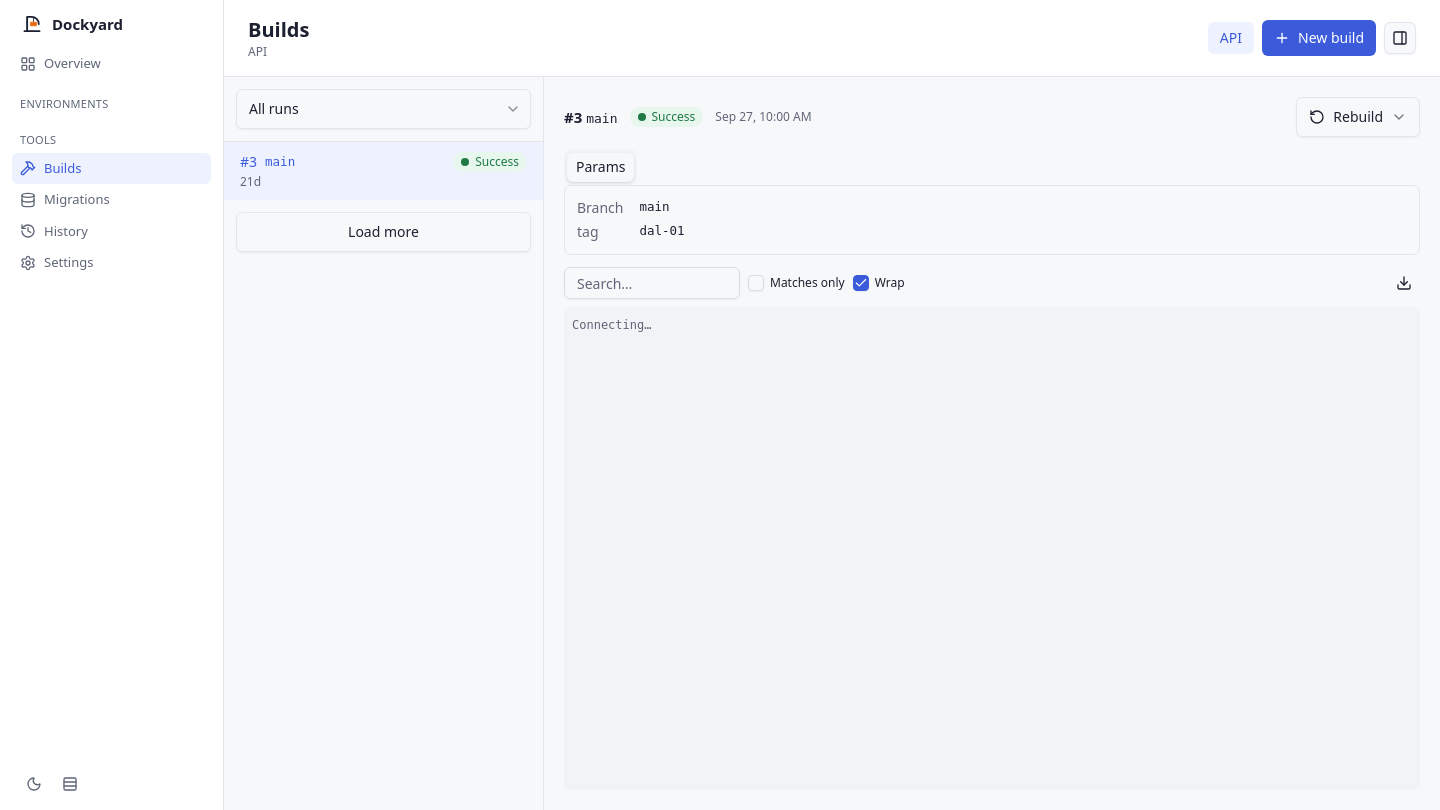
Scenario: BuildsPage › counts "Next tag" past tags from runs older than the loaded page (cubic #35)
Click the button "Rebuild" at [1358, 117], box [1296, 97, 1420, 137]
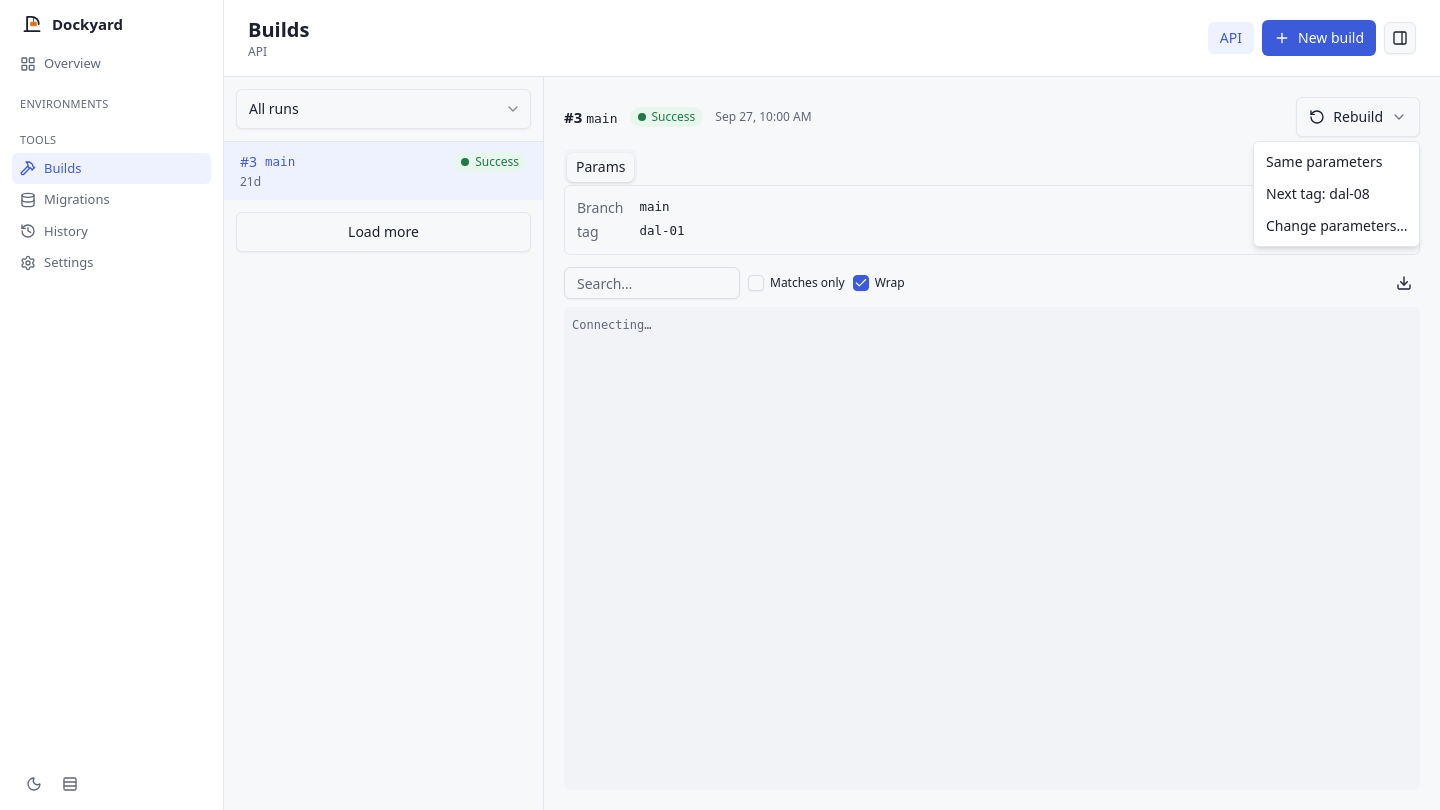
Check: the menu item "Next tag: dal-08" is shown, box [1266, 184, 1370, 203]
